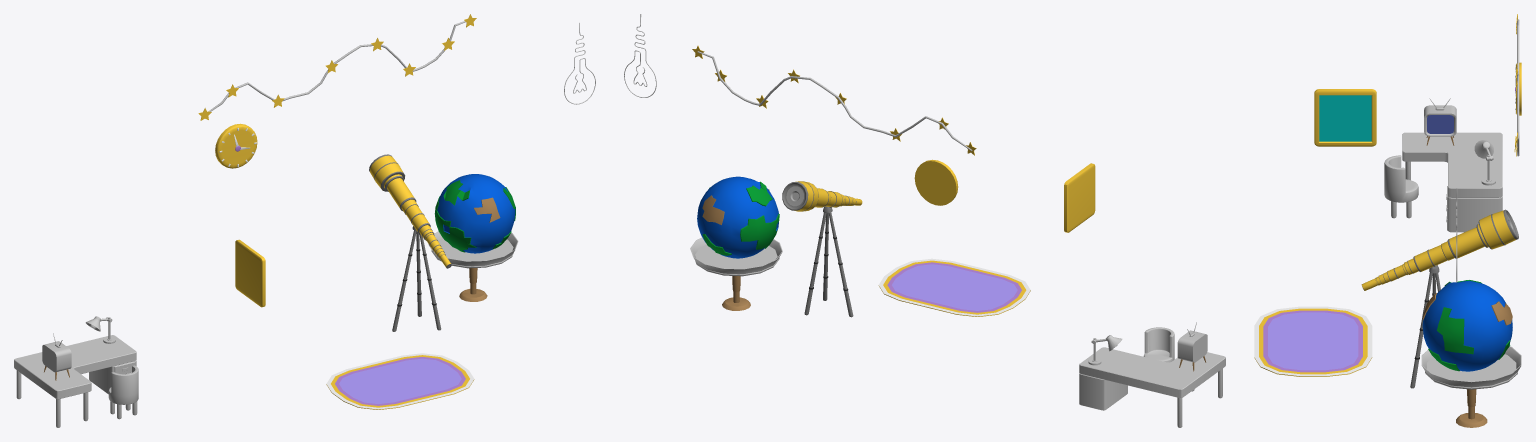
File: Earth Room.fbx
The picture shows the model from 3 angles, left to right: view 1: azimuth 30°, elevation 25°; view 2: azimuth 150°, elevation 25°; view 3: azimuth 270°, elevation 25°; orthographic projection. The views are drawn at different scales.
Visible parts, largest first — view 1: Earth Room.001, Earth Room.003, Tableee, Earth Room.007, Earth Room.004, Earth Room.005, Earth Room.006, Tableee Chair, Earth Room.002; view 2: Earth Room.001, Earth Room.003, Tableee, Earth Room.007, Earth Room.004, Earth Room.005, Earth Room.006, Tableee Chair, Earth Room.002; view 3: Earth Room.001, Earth Room.003, Tableee, Earth Room.007, Earth Room.004, Tableee Chair, Earth Room.002, Earth Room.006.
Part boxes in pixels (box(x1,y1,x2,y2)): Earth Room.001: box(428, 174, 518, 301); Earth Room.003: box(326, 353, 474, 409); Tableee: box(14, 316, 136, 427); Earth Room.007: box(369, 154, 451, 331); Earth Room.004: box(235, 239, 265, 307); Earth Room.005: box(215, 123, 257, 168); Earth Room.006: box(198, 14, 476, 120); Tableee Chair: box(108, 365, 138, 419); Earth Room.002: box(42, 333, 71, 380); Earth Room.001: box(690, 176, 782, 310); Earth Room.003: box(878, 258, 1030, 316); Tableee: box(1079, 335, 1225, 427); Earth Room.007: box(782, 181, 862, 317); Earth Room.004: box(1064, 163, 1095, 232); Earth Room.005: box(914, 159, 958, 205); Earth Room.006: box(692, 45, 976, 155); Tableee Chair: box(1143, 327, 1174, 362); Earth Room.002: box(1177, 322, 1207, 371); Earth Room.001: box(1421, 280, 1521, 427); Earth Room.003: box(1254, 306, 1372, 376); Tableee: box(1402, 132, 1502, 232); Earth Room.007: box(1361, 209, 1518, 388); Earth Room.004: box(1314, 89, 1376, 146); Tableee Chair: box(1384, 155, 1418, 218); Earth Room.002: box(1424, 98, 1456, 145); Earth Room.006: box(1514, 14, 1519, 156).
Bounding box in the file's own units: 1408 × 636 × 511.
